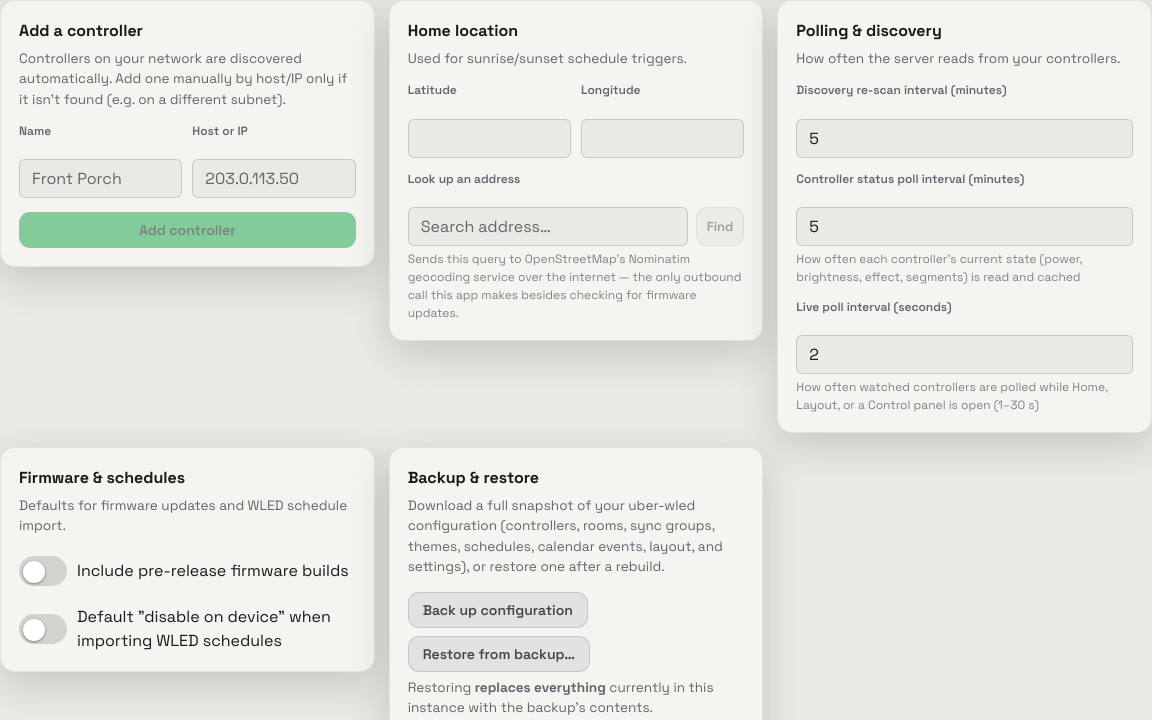
Test: SettingsSection v2 › "Look up an address" (server-proxied Nominatim geocoding) › shows a clear message when there are no matches
The image size is (1152, 720).
Step 1. Type "nowhere at all" into the field labelled "Look up an address" → (548,226), box 408,207 -> 688,246
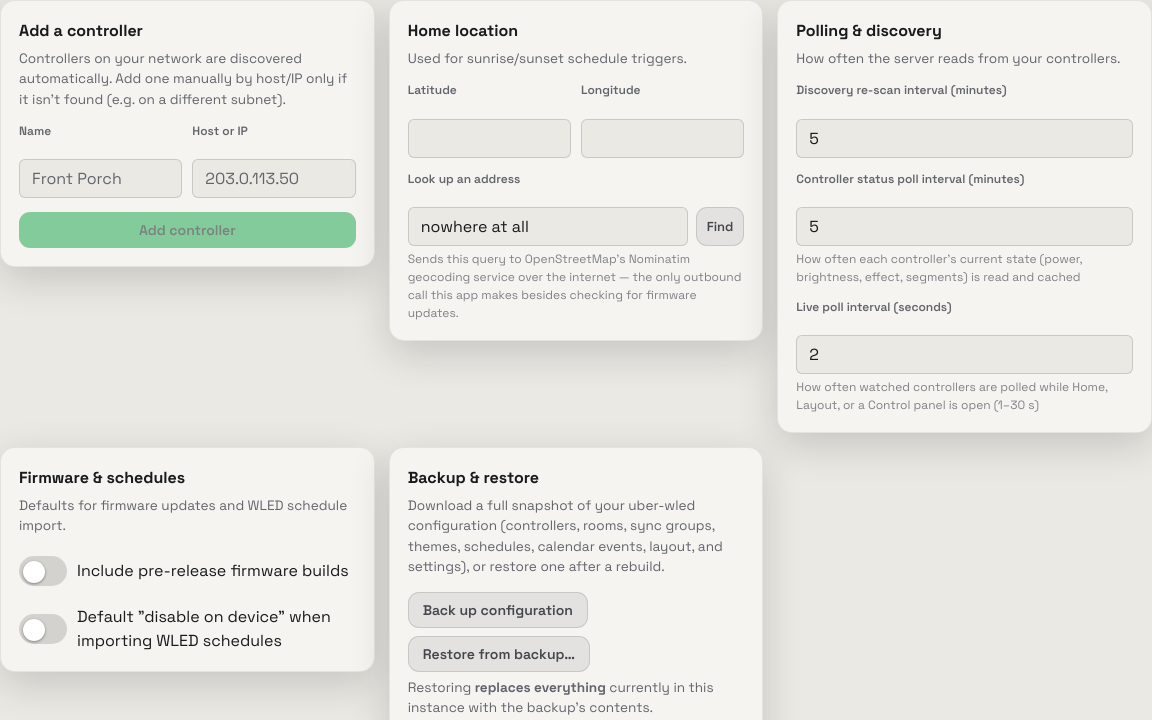
Step 2. Click the button "Find" → (720,226), box 696,207 -> 744,246
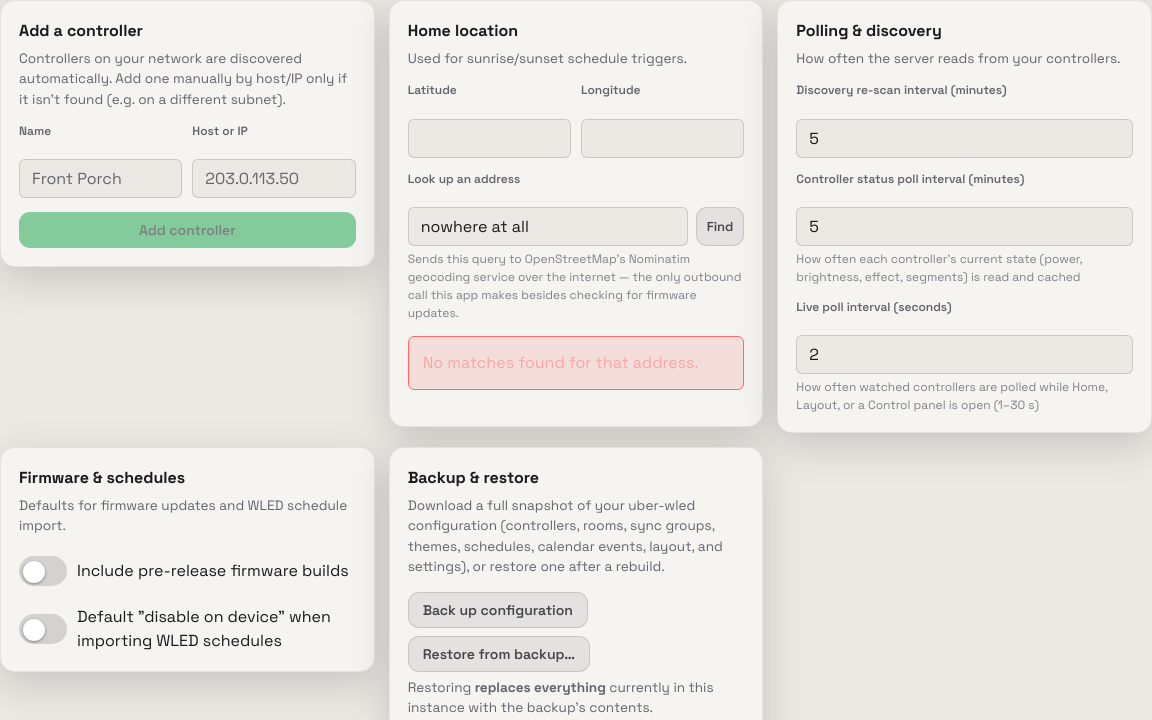
Now the message shows "No matches found", box 423,352 -> 699,373
